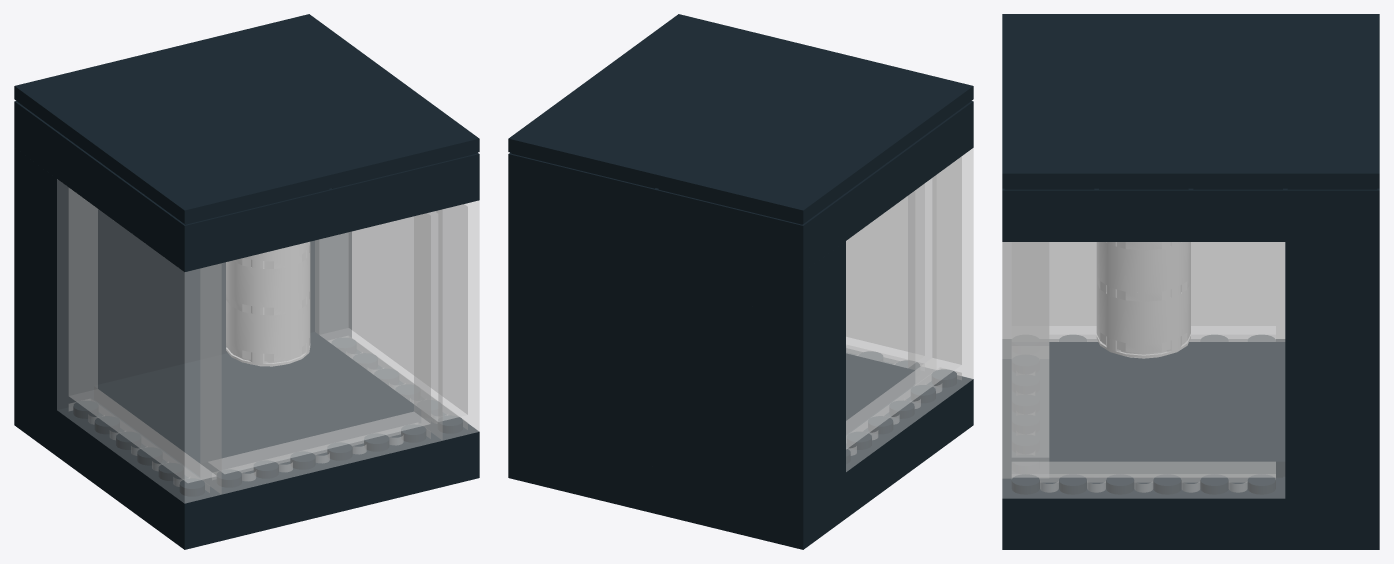
Rendered from quantego-one.glb.
3 renders of one model, left to right at view 1: azimuth 30°, elevation 25°; view 2: azimuth 150°, elevation 25°; view 3: azimuth 270°, elevation 25°, orthographic. The views are drawn at different scales.
Parts seen in each view (by area): view 1: parts/59349.dat (×3), parts/3001.dat (×16), parts/87079.dat (×11), parts/3003.dat (×5), parts/3941.dat (×3), parts/6636.dat, parts/2654a.dat; view 2: parts/3001.dat (×17), parts/87079.dat (×9), parts/59349.dat (×2), parts/3003.dat (×6), parts/6636.dat; view 3: parts/59349.dat (×3), parts/87079.dat (×11), parts/3001.dat (×6), parts/3003.dat (×3), parts/3941.dat (×2), parts/6636.dat, parts/2654a.dat.
Boxes of the visible parts, x1,y1,x2,y2 form: parts/59349.dat (×3): (57,179,479,503); parts/3001.dat (×16): (14,101,479,549); parts/87079.dat (×11): (14,14,479,460); parts/3003.dat (×5): (14,148,351,409); parts/3941.dat (×3): (226,242,310,361); parts/6636.dat: (179,394,420,476); parts/2654a.dat: (226,340,310,366); parts/3001.dat (×17): (508,101,973,549); parts/87079.dat (×9): (508,14,973,433); parts/59349.dat (×2): (846,148,973,471); parts/3003.dat (×6): (508,200,845,503); parts/6636.dat: (846,353,914,398); parts/59349.dat (×3): (1002,242,1285,498); parts/87079.dat (×11): (1002,14,1379,477); parts/3001.dat (×6): (1002,188,1379,549); parts/3003.dat (×3): (1285,242,1379,498); parts/3941.dat (×2): (1096,242,1190,353); parts/6636.dat: (1049,342,1096,473); parts/2654a.dat: (1096,335,1190,358).
Bounding box in the file's own units: 3 × 3.3 × 3.
